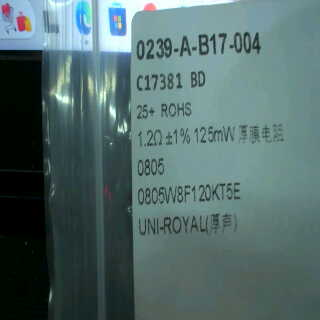1.2R: (135, 126, 164, 176)
